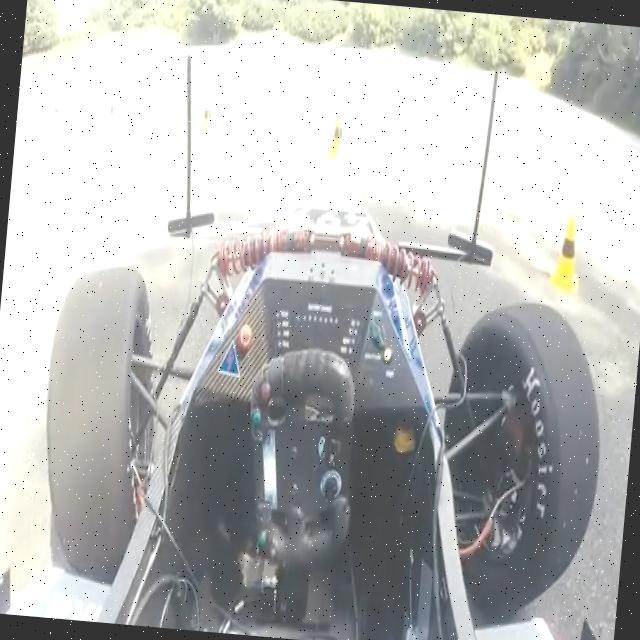yellow_cone: (550, 212, 584, 292), (328, 111, 350, 160)
